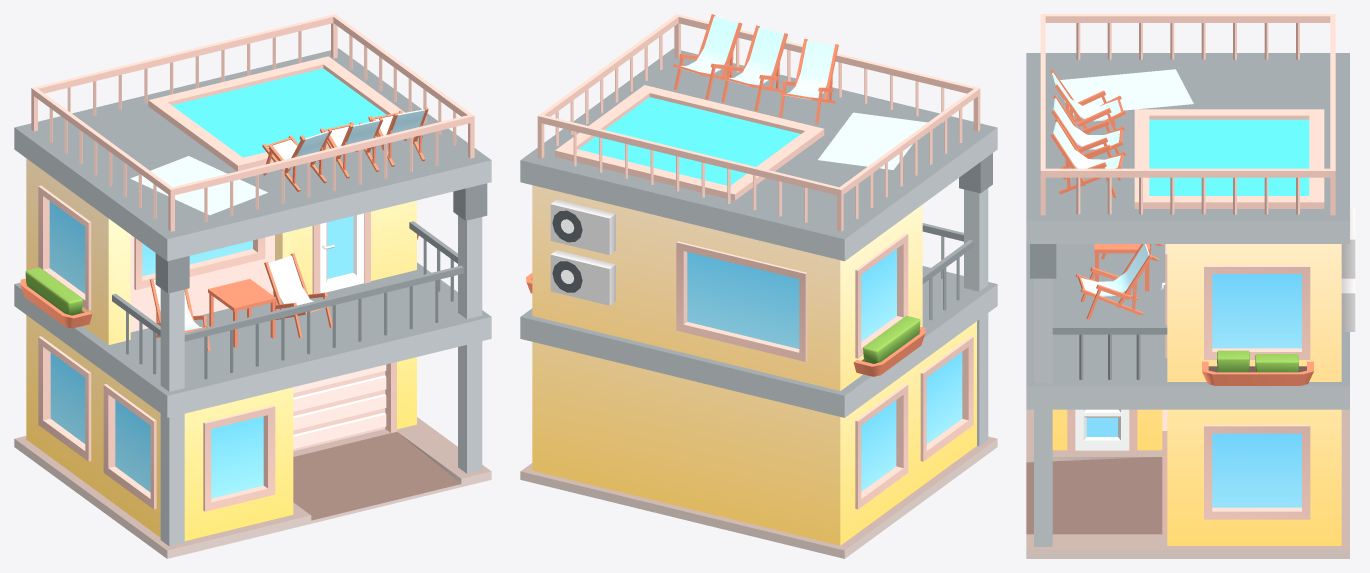
File: Building_Living_20.glb
3 renders of one model, left to right at view 1: azimuth 30°, elevation 25°; view 2: azimuth 150°, elevation 25°; view 3: azimuth 270°, elevation 25°, orthographic. The views are drawn at different scales.
Parts seen in each view (by area): view 1: Building_Living_20; view 2: Building_Living_20; view 3: Building_Living_20.
Part boxes in pixels (left/top/right/bottom): Building_Living_20: left=14, top=14, right=491, bottom=558; Building_Living_20: left=520, top=14, right=997, bottom=558; Building_Living_20: left=1026, top=14, right=1355, bottom=558.
Size of the model in its own units: 8.84 by 8.89 by 6.67.
1 material, 1 textured.
